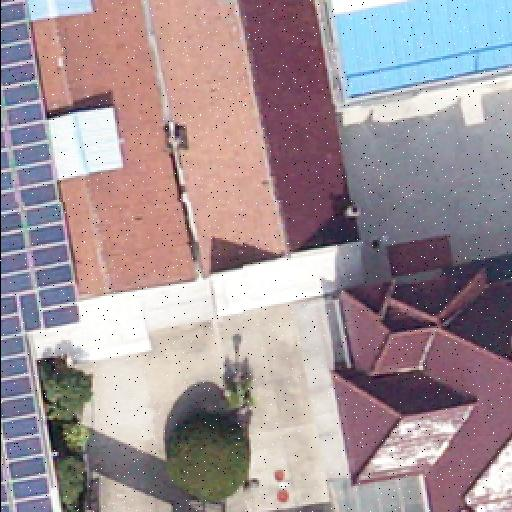solar-panel: (0, 0, 80, 512)
